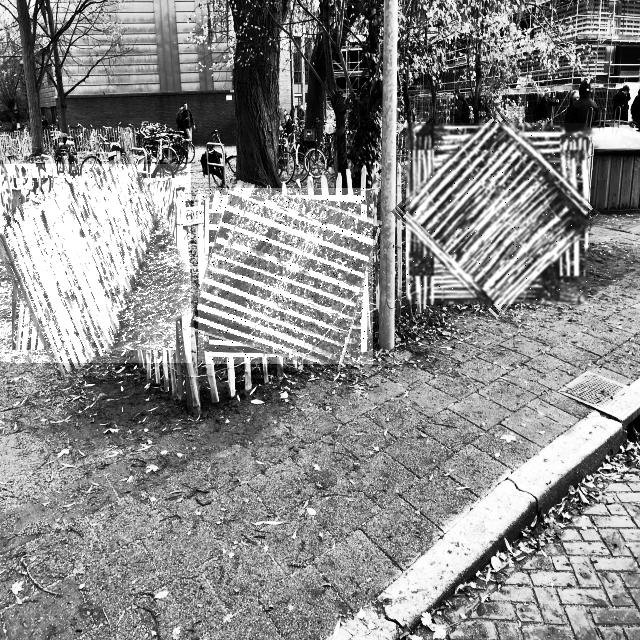fences: (0, 164, 191, 363), (406, 123, 588, 304), (198, 188, 373, 364)
